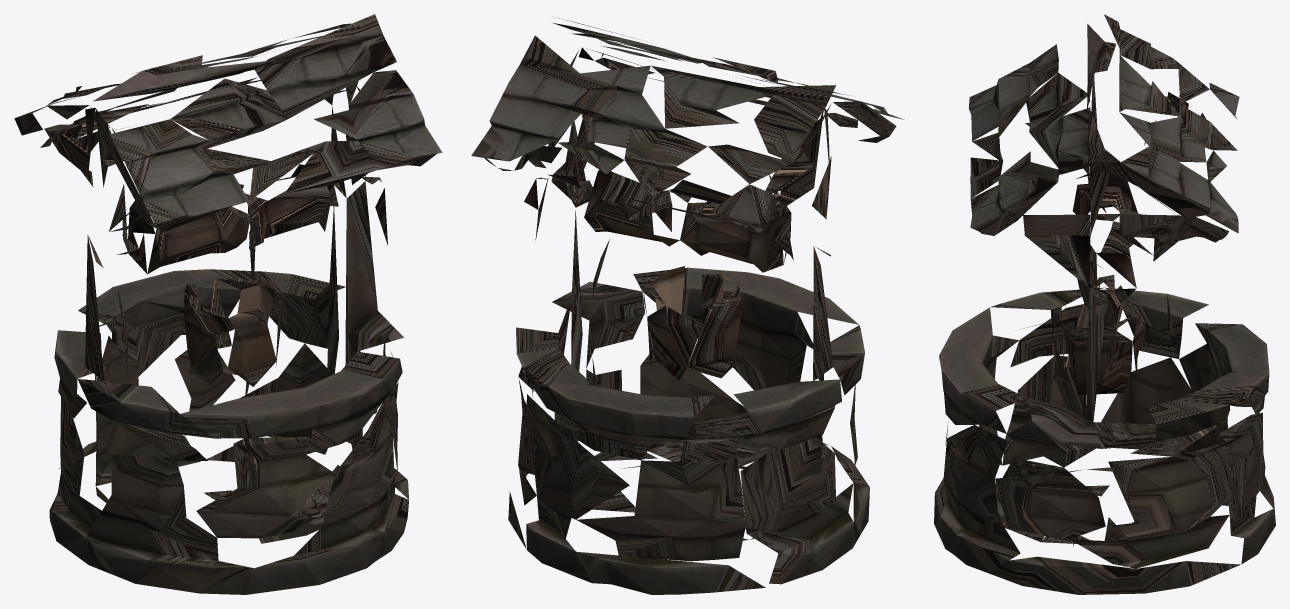
Rendered from prp_well_a_LOD1.glb.
3 renders of one model, left to right at view 1: azimuth 30°, elevation 25°; view 2: azimuth 150°, elevation 25°; view 3: azimuth 270°, elevation 25°, orthographic. The views are drawn at different scales.
Parts seen in each view (by area): view 1: geometry_0; view 2: geometry_0; view 3: geometry_0.
Boxes of the visible parts, bbox=[...] form: geometry_0: bbox=[14, 14, 442, 594]; geometry_0: bbox=[471, 17, 904, 594]; geometry_0: bbox=[934, 14, 1275, 594].
Bounding box in the file's own units: 2.09 × 3 × 2.1.
Materials: 1 (1 with a texture image).
